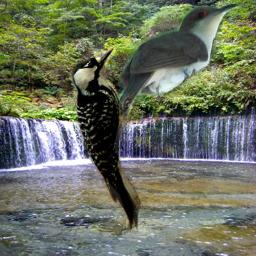Cuckoo: (108, 2, 242, 122)
Woodpecker: (63, 42, 156, 245)
